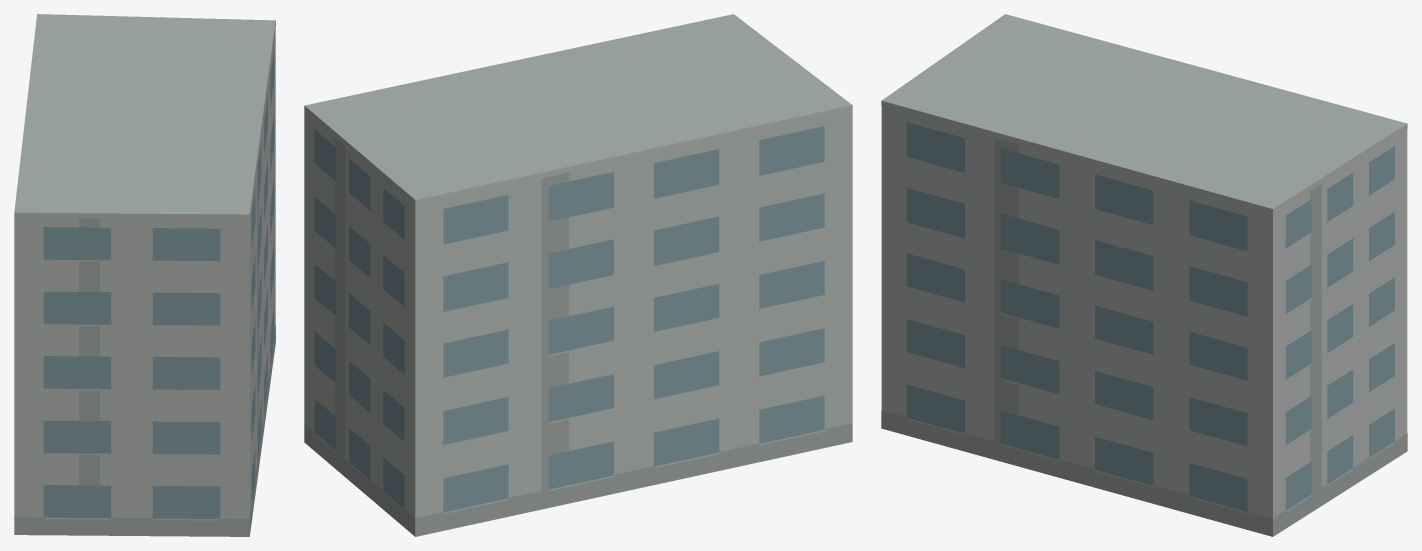
File: survey-upis-33014185.glb
3 views of the same model, side by side, from view 1: azimuth 30°, elevation 25°; view 2: azimuth 150°, elevation 25°; view 3: azimuth 270°, elevation 25° (orthographic). The views are drawn at different scales.
Parts seen in each view (by area): view 1: survey-upis-33014185.tmp; view 2: survey-upis-33014185.tmp; view 3: survey-upis-33014185.tmp.
Part boxes in pixels (x1,y1,x2,y2): survey-upis-33014185.tmp: [14, 14, 275, 536]; survey-upis-33014185.tmp: [304, 14, 852, 536]; survey-upis-33014185.tmp: [881, 14, 1407, 536].
Bounding box in the file's own units: 18.64 × 14.6 × 21.24.
